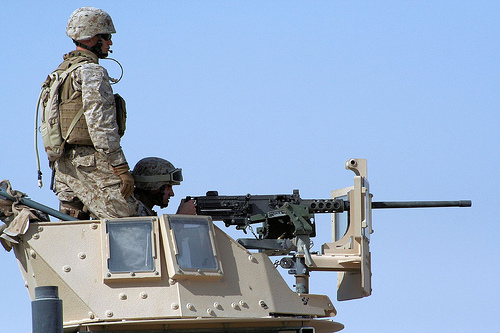rifle: (246, 179, 473, 284)
rifle in hand: (177, 185, 471, 301)
